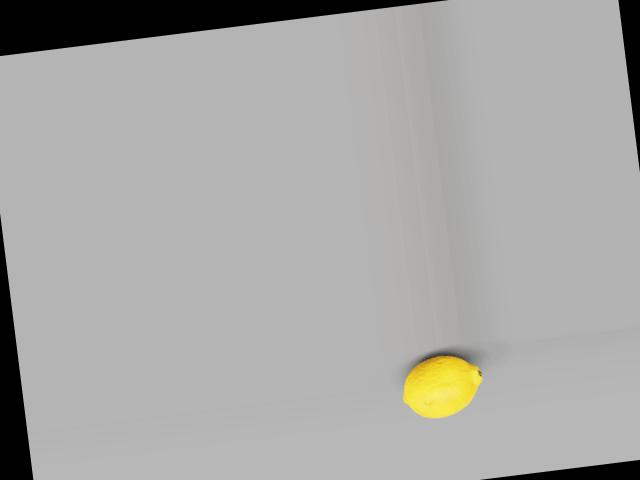lemon: (397, 352, 487, 426)
